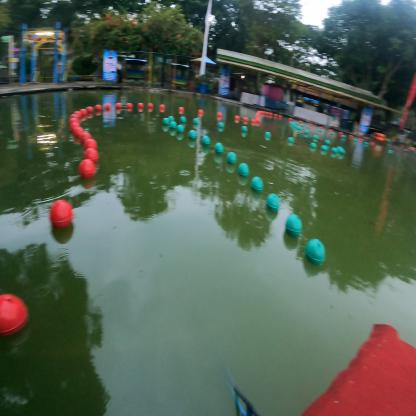green_buoy: (304, 237, 327, 261), (284, 212, 303, 234), (266, 193, 280, 210), (250, 175, 264, 191), (238, 160, 249, 176), (214, 141, 224, 153), (227, 151, 236, 164), (201, 134, 210, 145)
red_buoy: (0, 290, 30, 337), (48, 195, 75, 233), (79, 157, 98, 180), (84, 146, 99, 162)
